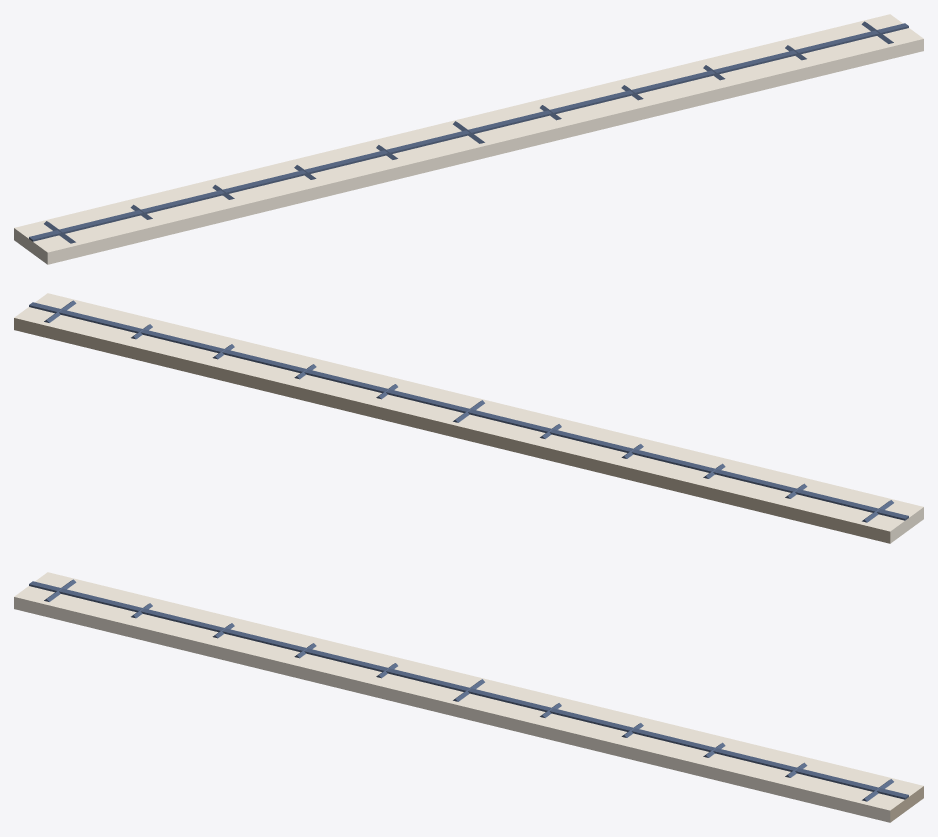
File: number_line.glb
3 views of the same model, one above another, from view 1: azimuth 30°, elevation 25°; view 2: azimuth 150°, elevation 25°; view 3: azimuth 330°, elevation 25° (orthographic).
Parts seen in each view (by area): view 1: line; view 2: line; view 3: line.
Boxes of the visible parts, x1=… form: line: x1=14, y1=14, x2=923, y2=264; line: x1=14, y1=293, x2=923, y2=543; line: x1=14, y1=572, x2=923, y2=822.
Size of the model in its own units: 0.3 by 0.0048 by 0.02.
